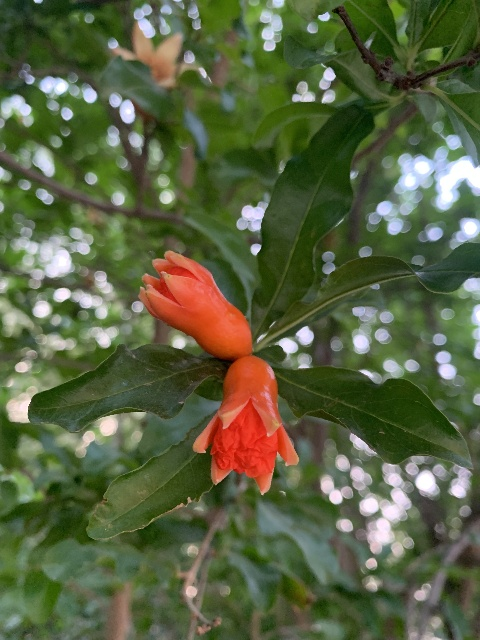early-fruit: (111, 20, 192, 119)
flower: (193, 355, 298, 494), (138, 250, 251, 360)
